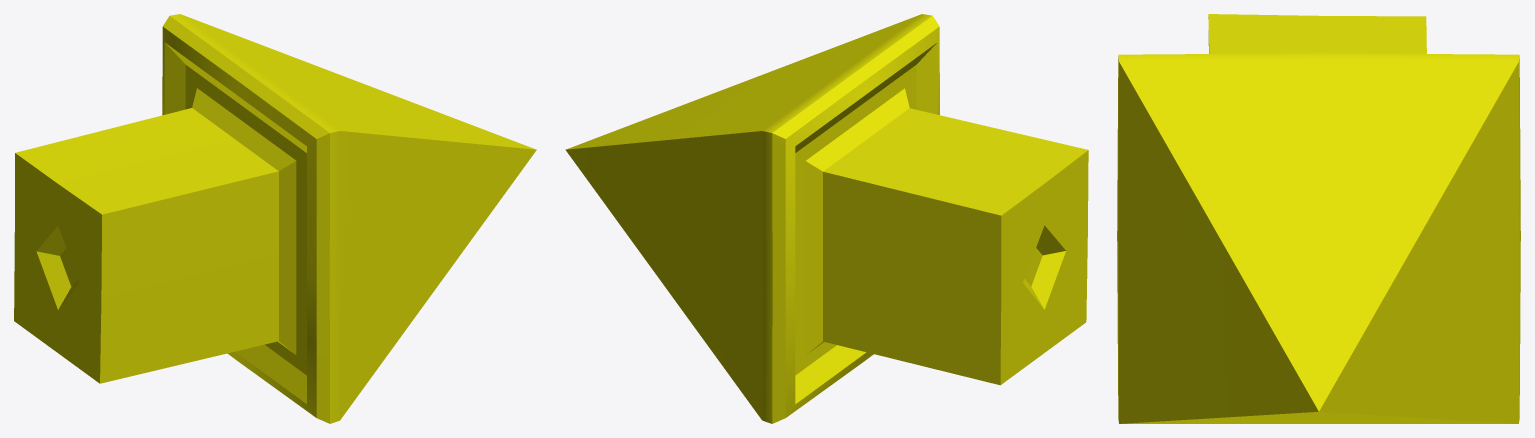
The model's file is yellowarrow3d.fbx.
The picture shows the model from 3 angles, left to right: view 1: azimuth 30°, elevation 25°; view 2: azimuth 150°, elevation 25°; view 3: azimuth 270°, elevation 25°; orthographic projection. The views are drawn at different scales.
Visible parts, largest first — view 1: pCube4; view 2: pCube4; view 3: pCube4.
Part boxes in pixels (x1,y1,x2,y2): pCube4: (14, 14, 536, 423); pCube4: (565, 14, 1088, 423); pCube4: (1117, 14, 1520, 423).
Size of the model in its own units: 1.59 by 0.9282 by 0.9282.
